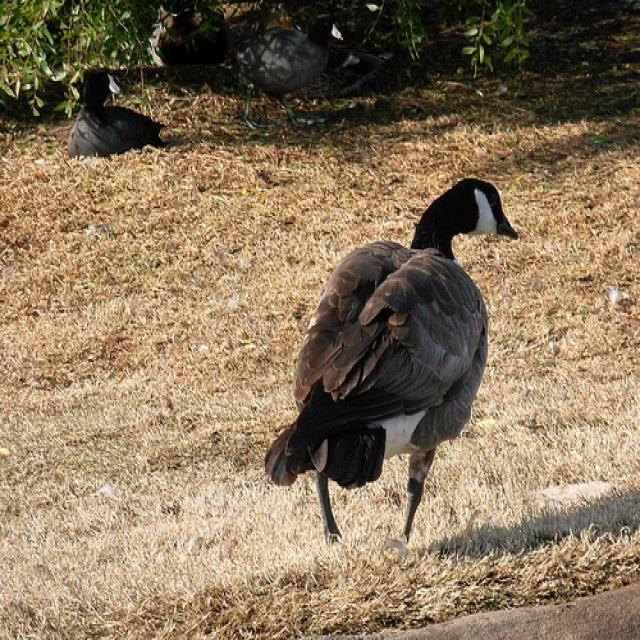bird: (260, 176, 518, 538), (223, 16, 347, 127), (66, 67, 166, 160)
